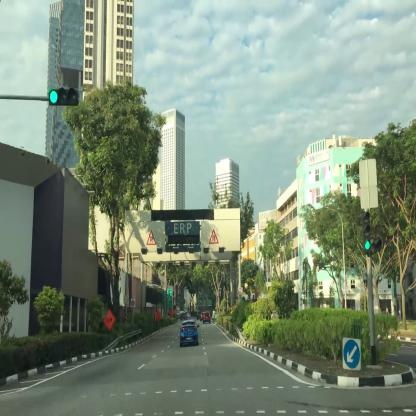green_traffic_light: (48, 88, 78, 105), (362, 210, 370, 255)
